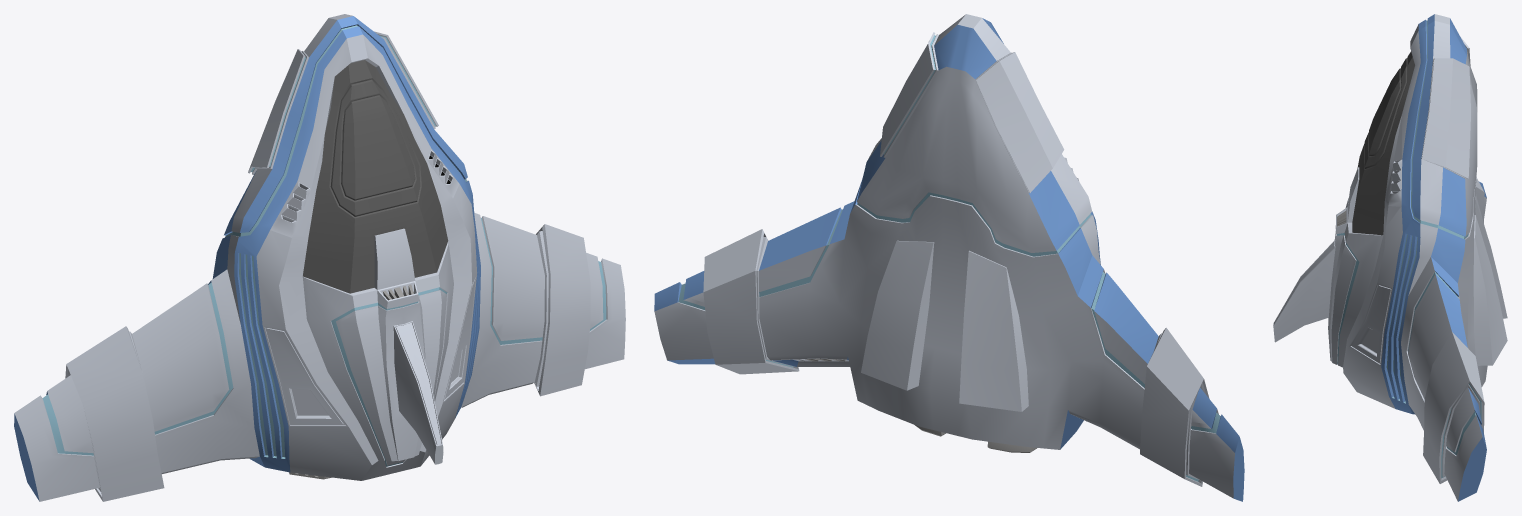
The model's file is Spaceship_Request-DeNapes - Copy.fbx.
3 views of the same model, side by side, from view 1: azimuth 30°, elevation 25°; view 2: azimuth 150°, elevation 25°; view 3: azimuth 270°, elevation 25° (orthographic). The views are drawn at different scales.
Visible parts, largest first — view 1: Spaceship; view 2: Spaceship; view 3: Spaceship.
Part boxes in pixels (<box>): Spaceship: <box>14,14,625,501</box>; Spaceship: <box>654,14,1244,501</box>; Spaceship: <box>1273,14,1507,501</box>.
Bounding box in the file's own units: 10.66 × 7.39 × 4.16.
